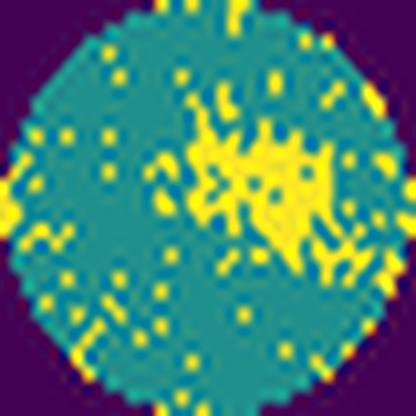Loc: (186, 89, 376, 289)
